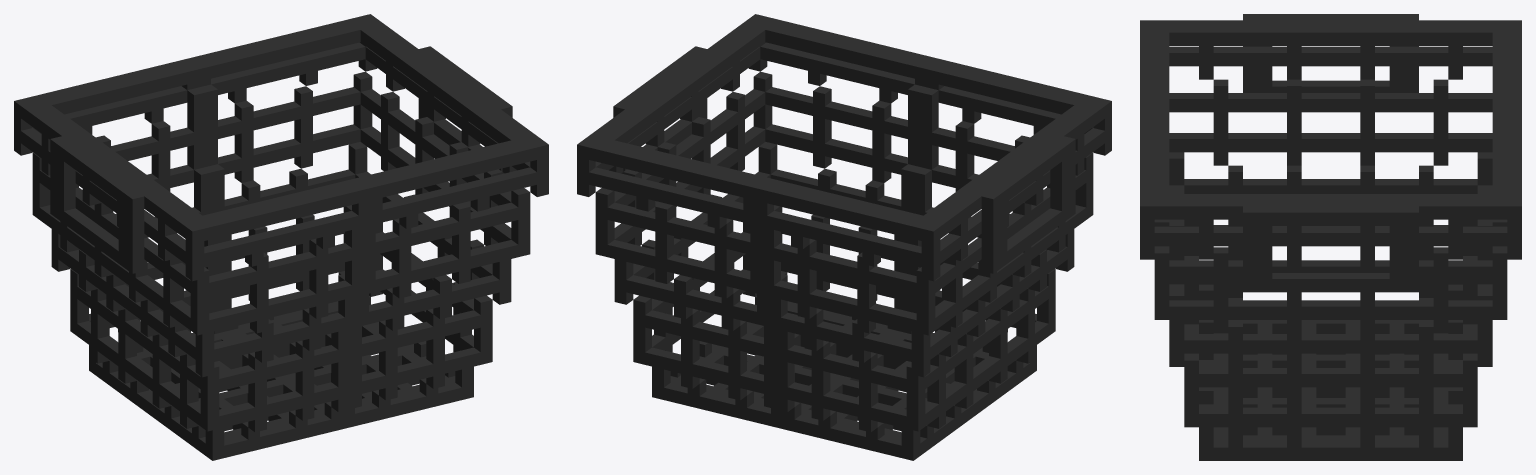
The model's file is Background_A_deco_05.FBX.
3 views of the same model, side by side, from view 1: azimuth 30°, elevation 25°; view 2: azimuth 150°, elevation 25°; view 3: azimuth 270°, elevation 25° (orthographic). The views are drawn at different scales.
Parts seen in each view (by area): view 1: Load_A-4; view 2: Load_A-4; view 3: Load_A-4.
Boxes of the visible parts, left/top/right/bottom form: Load_A-4: left=14, top=14, right=548, bottom=460; Load_A-4: left=577, top=14, right=1111, bottom=460; Load_A-4: left=1140, top=14, right=1521, bottom=460.
Bounding box in the file's own units: 3.2 × 2.1 × 2.6.
Materials: 1 (1 with a texture image).
